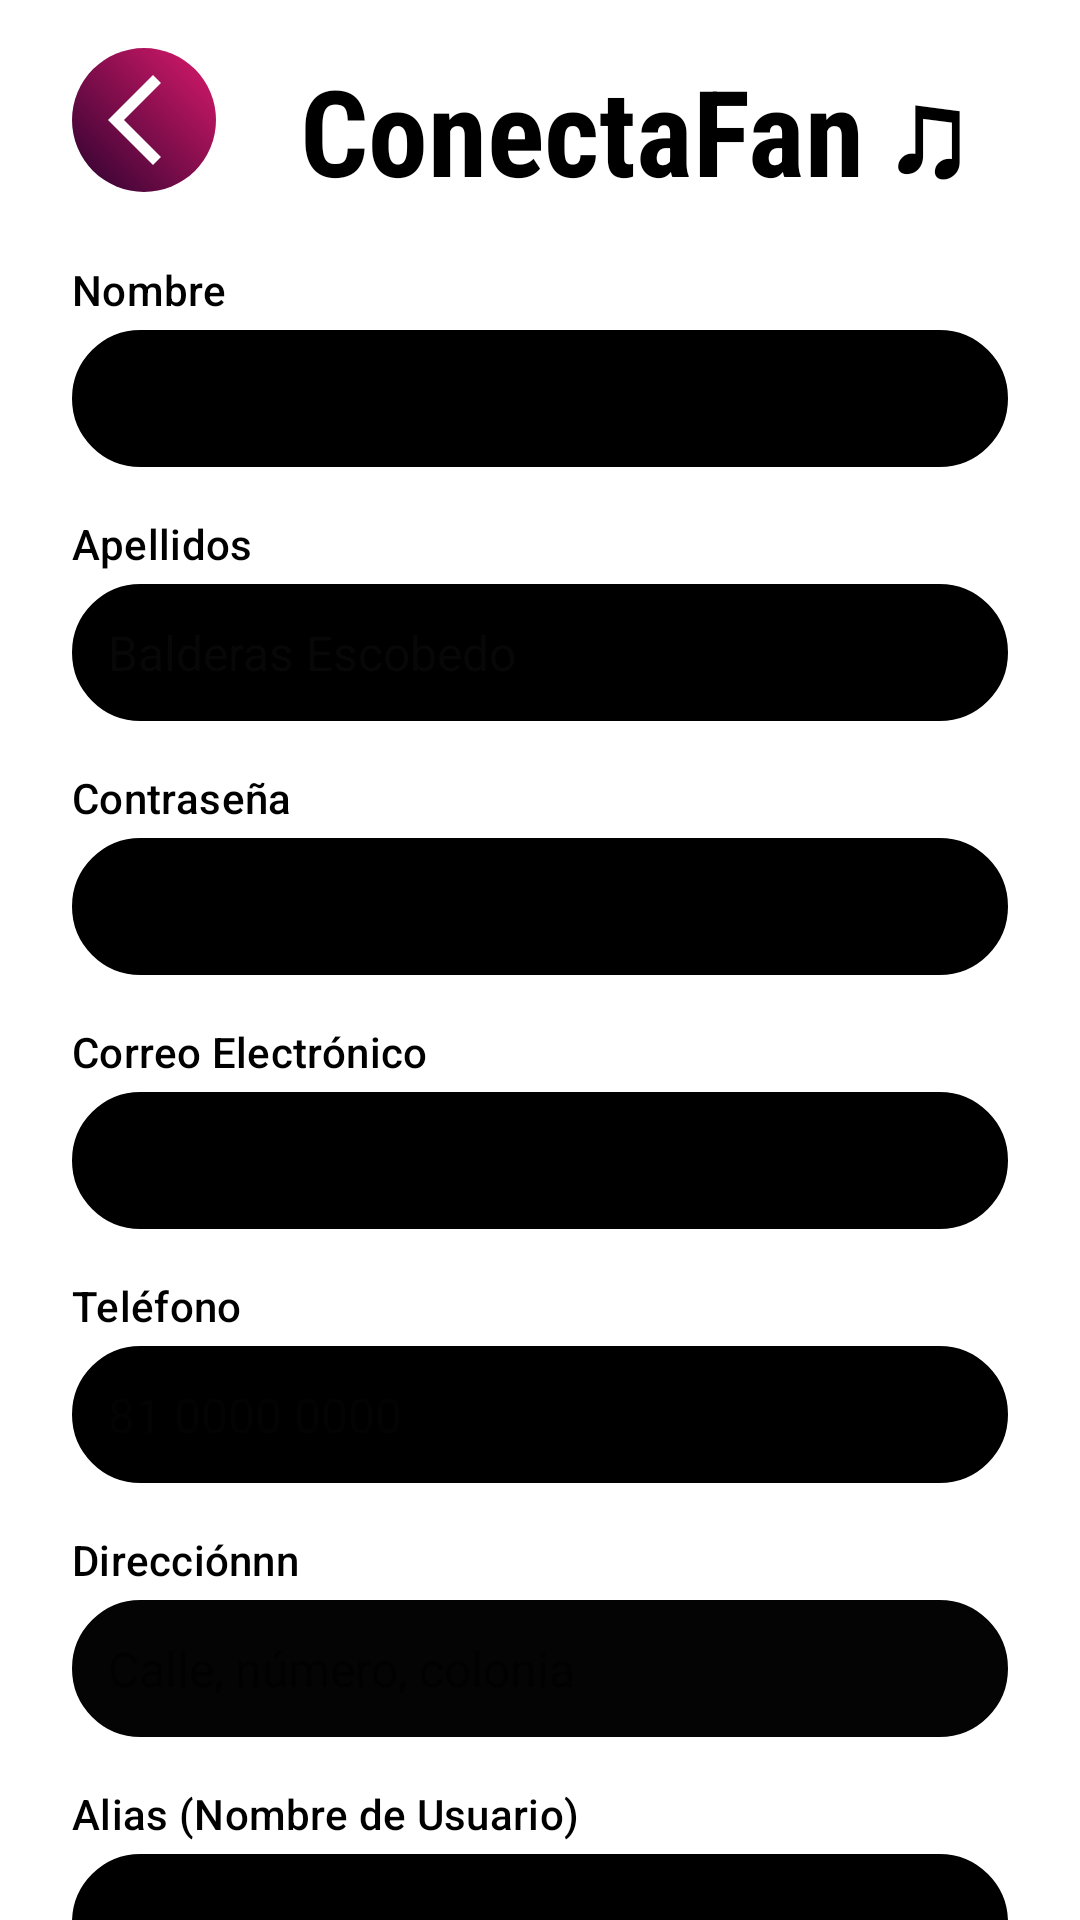

Where icons sit on this 1080*1920 app screen, as (x1, y1, x2, y2):
back: (72, 48, 216, 192)
